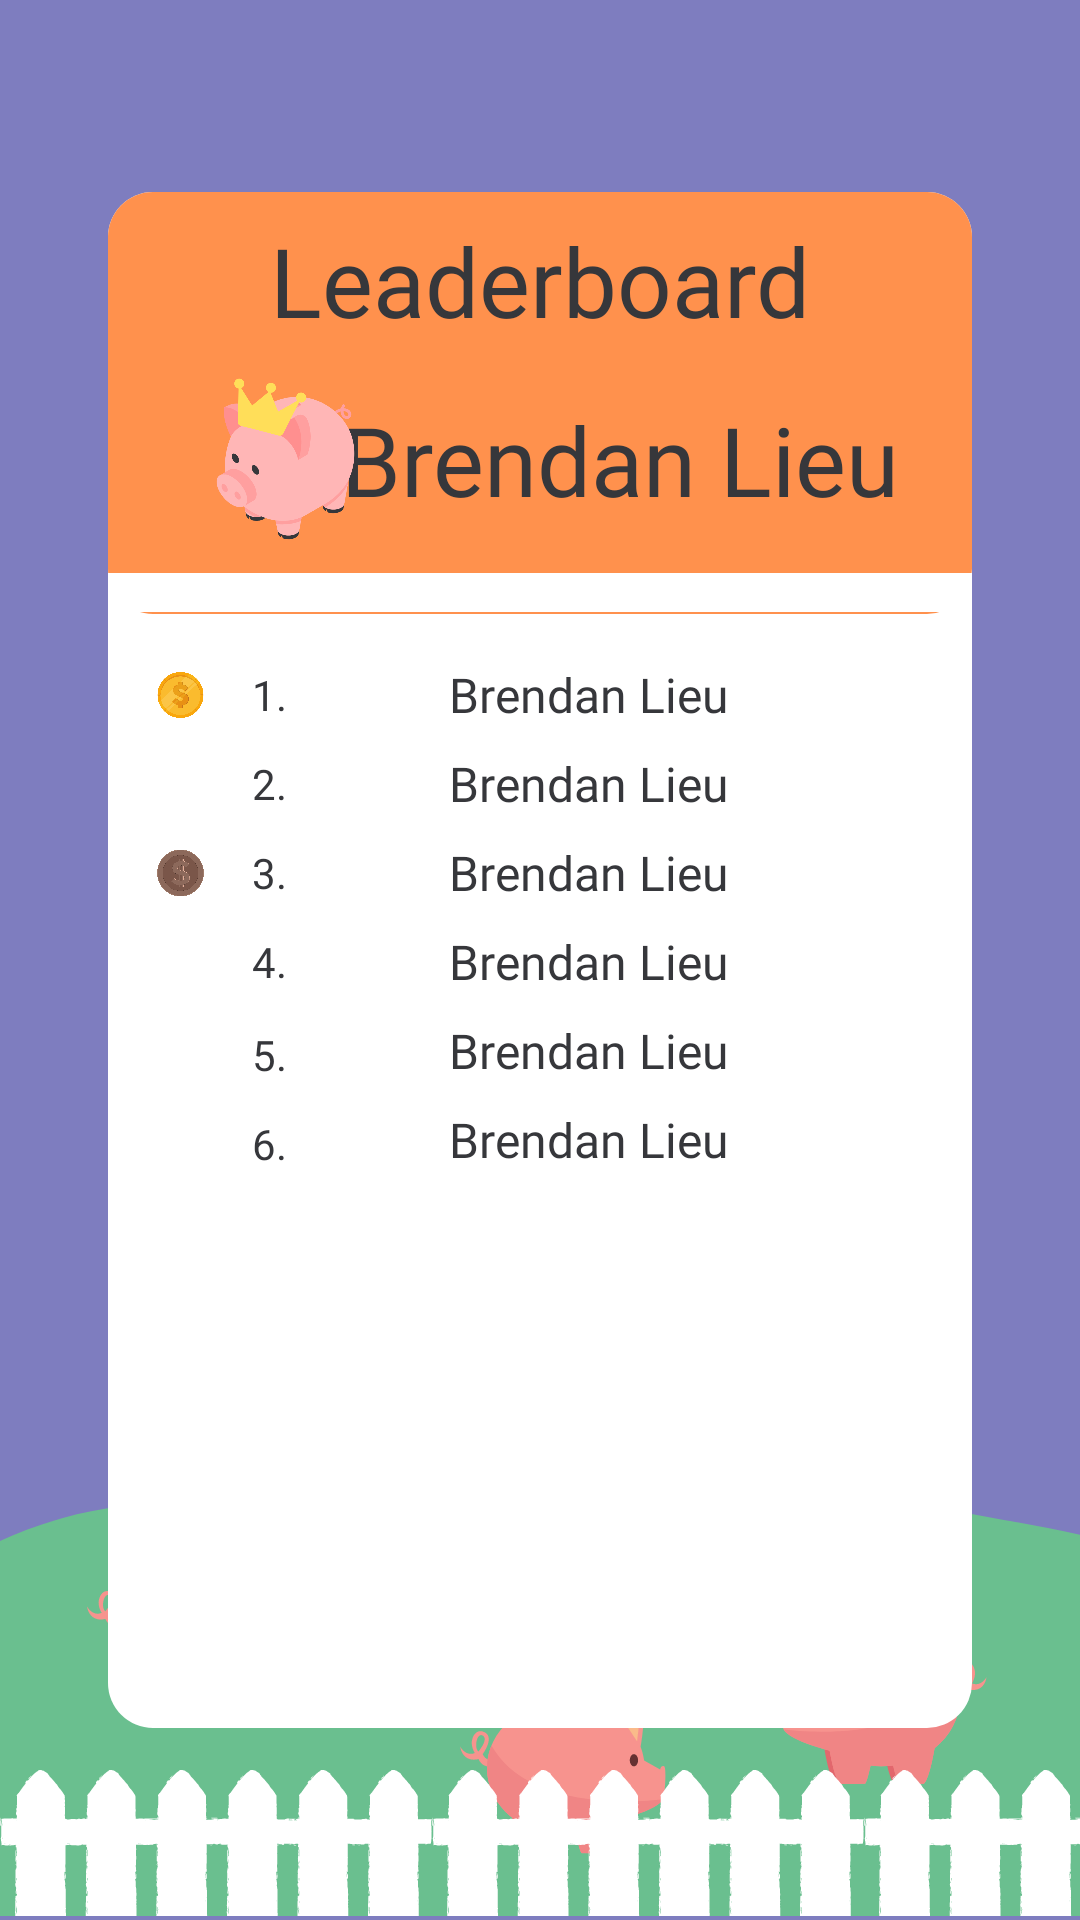

Point at icon controls on the screen. Image size 1080x1920, points as point (x, y).
bronze: point (180, 873)
gold: point (180, 695)
